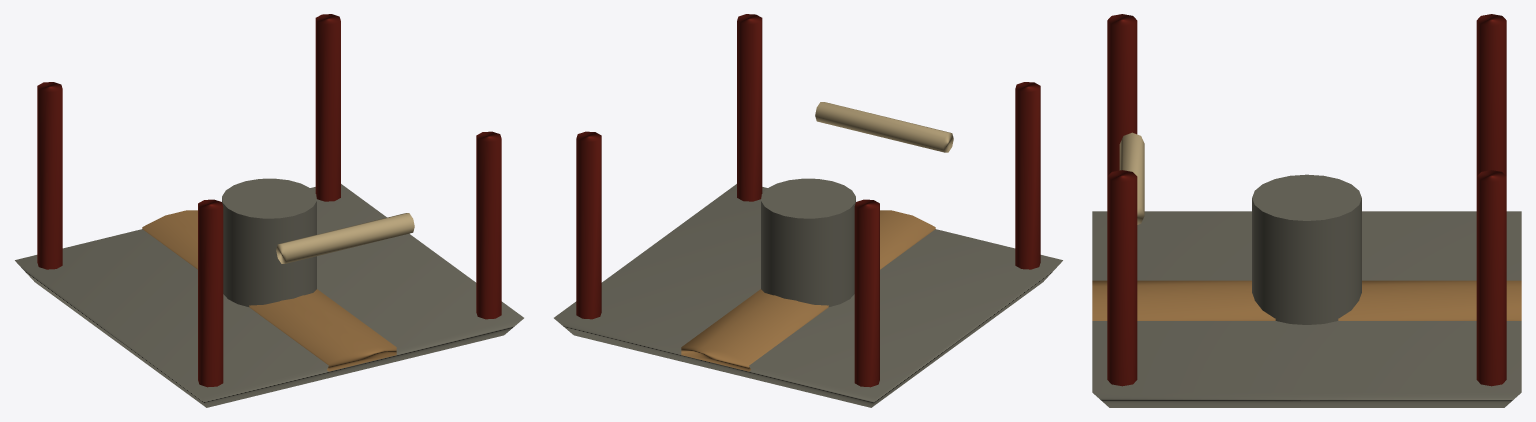
The model's file is R53_HAN_LUOYANG_OPEN_PUBLIC_PLAZA_A.fbx.
3 renders of one model, left to right at view 1: azimuth 30°, elevation 25°; view 2: azimuth 150°, elevation 25°; view 3: azimuth 270°, elevation 25°, orthographic. The views are drawn at different scales.
Visible parts, largest first — view 1: paving, marker, axis_n, post_sw, post_se, post_nw, post_ne, banner_n, axis_s; view 2: paving, marker, axis_s, post_nw, post_ne, post_sw, post_se, banner_n, axis_n; view 3: paving, marker, post_nw, post_sw, axis_n, axis_s, post_se, post_ne, banner_n.
Boxes of the visible parts, left/top/right/bottom form: paving: left=15, top=184, right=523, bottom=407; marker: left=222, top=178, right=316, bottom=306; axis_n: left=249, top=289, right=396, bottom=371; post_sw: left=315, top=14, right=340, bottom=201; post_se: left=37, top=82, right=62, bottom=269; post_nw: left=476, top=131, right=501, bottom=319; post_ne: left=198, top=199, right=223, bottom=387; banner_n: left=276, top=213, right=414, bottom=263; axis_s: left=142, top=210, right=197, bottom=269; paving: left=554, top=184, right=1062, bottom=407; marker: left=761, top=178, right=855, bottom=306; axis_s: left=681, top=289, right=828, bottom=371; post_nw: left=737, top=14, right=762, bottom=201; post_ne: left=1015, top=82, right=1040, bottom=269; post_sw: left=576, top=131, right=601, bottom=319; post_se: left=854, top=199, right=879, bottom=387; banner_n: left=815, top=102, right=953, bottom=152; axis_n: left=880, top=210, right=935, bottom=269; paving: left=1092, top=211, right=1521, bottom=407; marker: left=1252, top=174, right=1361, bottom=324; post_nw: left=1107, top=170, right=1137, bottom=386; post_sw: left=1476, top=170, right=1506, bottom=386; axis_n: left=1092, top=280, right=1275, bottom=320; axis_s: left=1338, top=280, right=1521, bottom=320; post_se: left=1476, top=14, right=1506, bottom=175; post_ne: left=1107, top=14, right=1137, bottom=175; banner_n: left=1119, top=132, right=1144, bottom=224.
Size of the model in its own units: 86 by 50 by 86.
